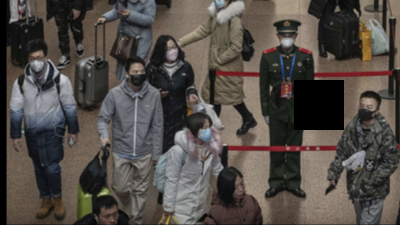with_mask: (358, 101, 376, 122), (26, 53, 47, 71), (194, 123, 212, 142), (129, 67, 147, 86), (278, 32, 295, 50), (163, 44, 179, 62)
without_mask: (231, 180, 246, 199), (101, 210, 119, 224)
